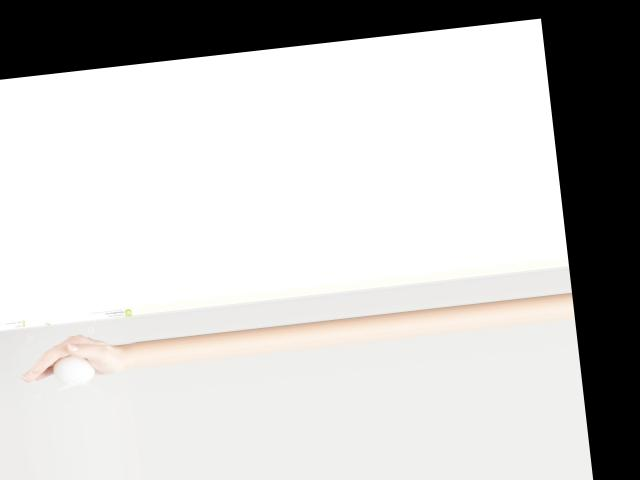egg: (51, 353, 95, 385)
